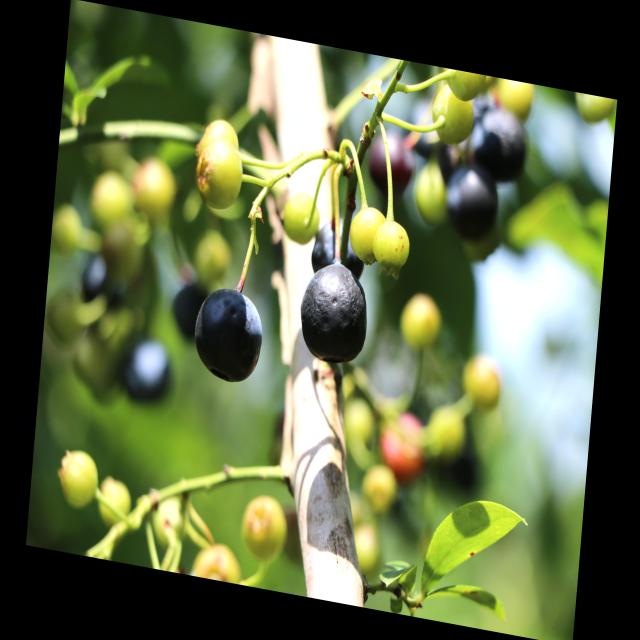blueberry: (188, 280, 272, 394), (295, 257, 372, 369), (468, 100, 532, 184), (443, 162, 503, 240), (365, 123, 422, 198), (309, 214, 372, 280), (121, 332, 175, 408)
blueberry-unripe: (191, 134, 246, 213), (241, 491, 289, 562), (56, 445, 102, 513), (429, 83, 478, 145), (370, 221, 413, 278), (460, 352, 502, 410), (401, 292, 440, 351), (348, 204, 384, 264), (97, 472, 133, 529)
